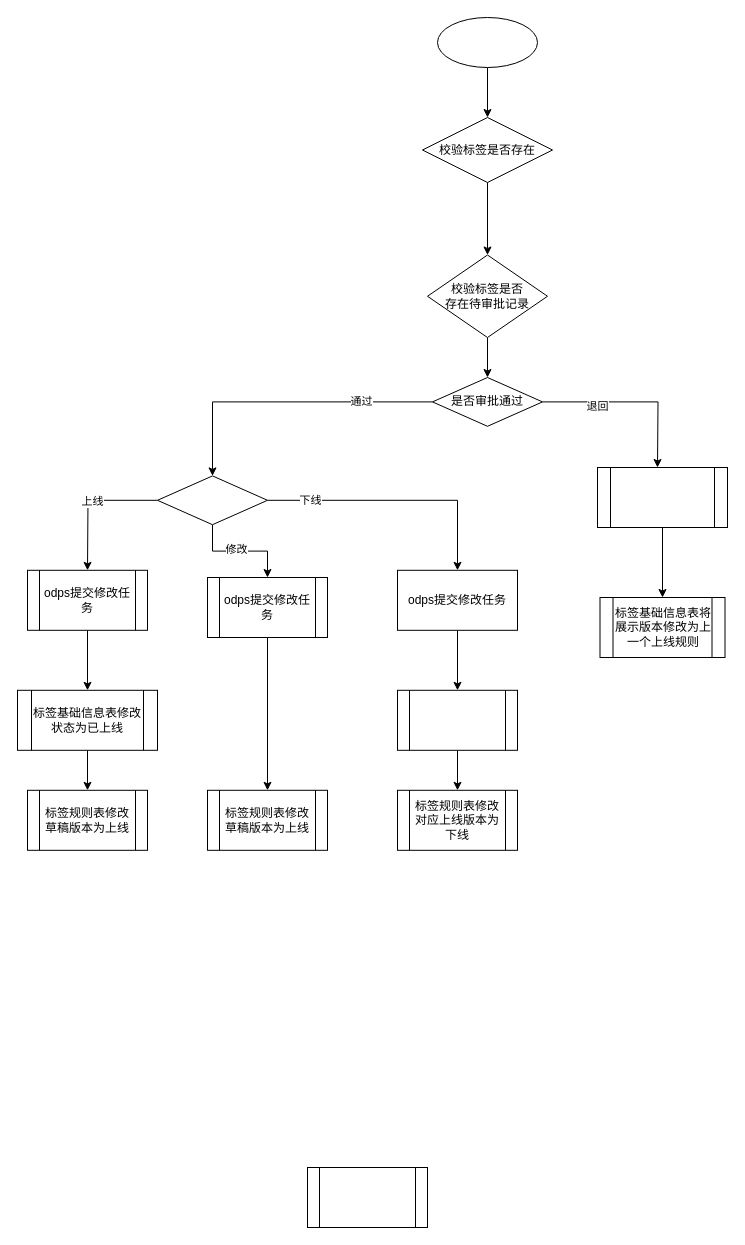
Image size: 745x1245. Some labels were removed from this diagram. The box of each missing label's shape, as (x1, y1, x2, y2) in pixels:
上线or下线or修改: (156, 475, 268, 525)
查询标签规则列表: (596, 466, 728, 528)
标签刷新表写入待刷新数据: (306, 1166, 428, 1228)
标签基础信息表修改标签为下线状态: (396, 689, 518, 750)
标签审批: (436, 16, 538, 68)
